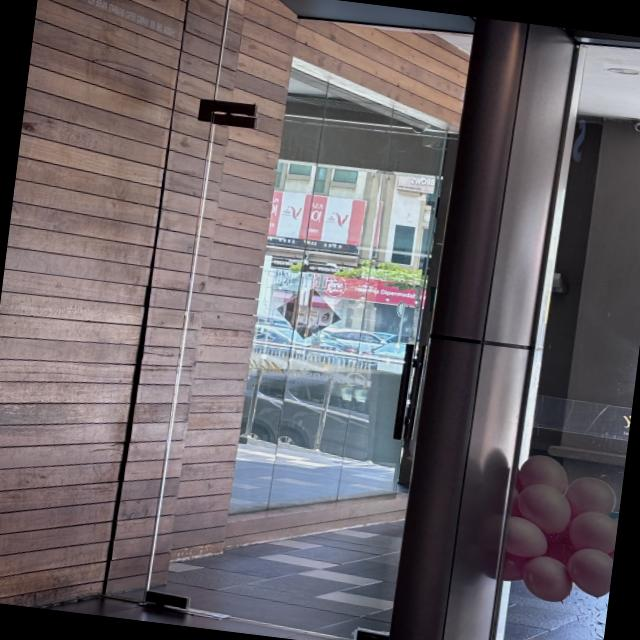door: (130, 100, 459, 640)
